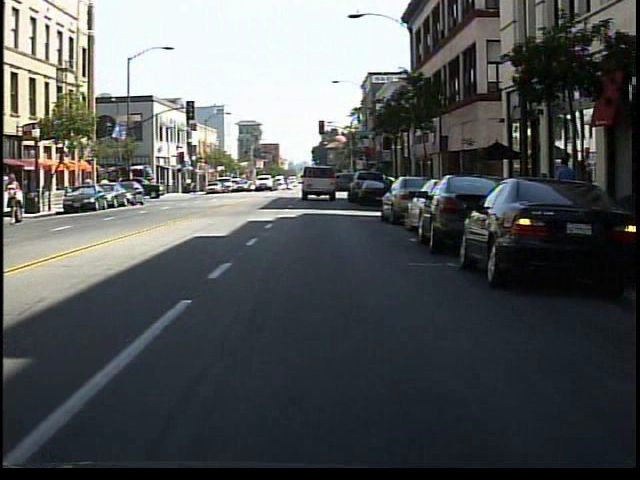person: (549, 152, 577, 233), (573, 157, 598, 229), (5, 169, 30, 231)
